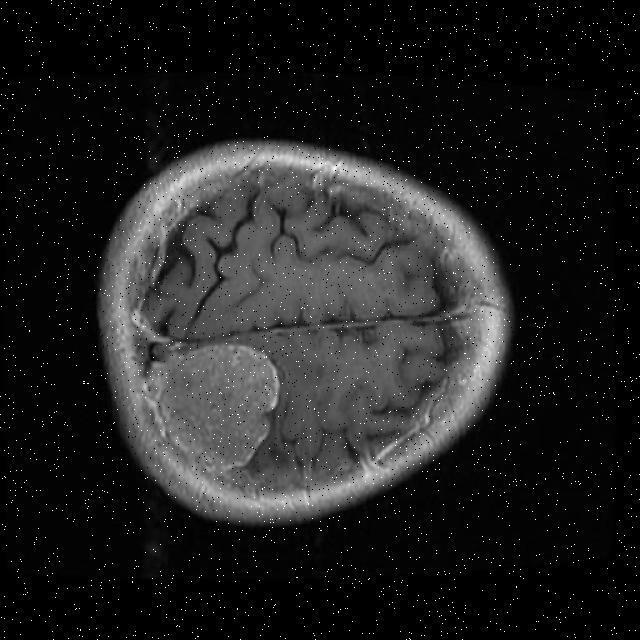Meningioma: (146, 345, 279, 471)
